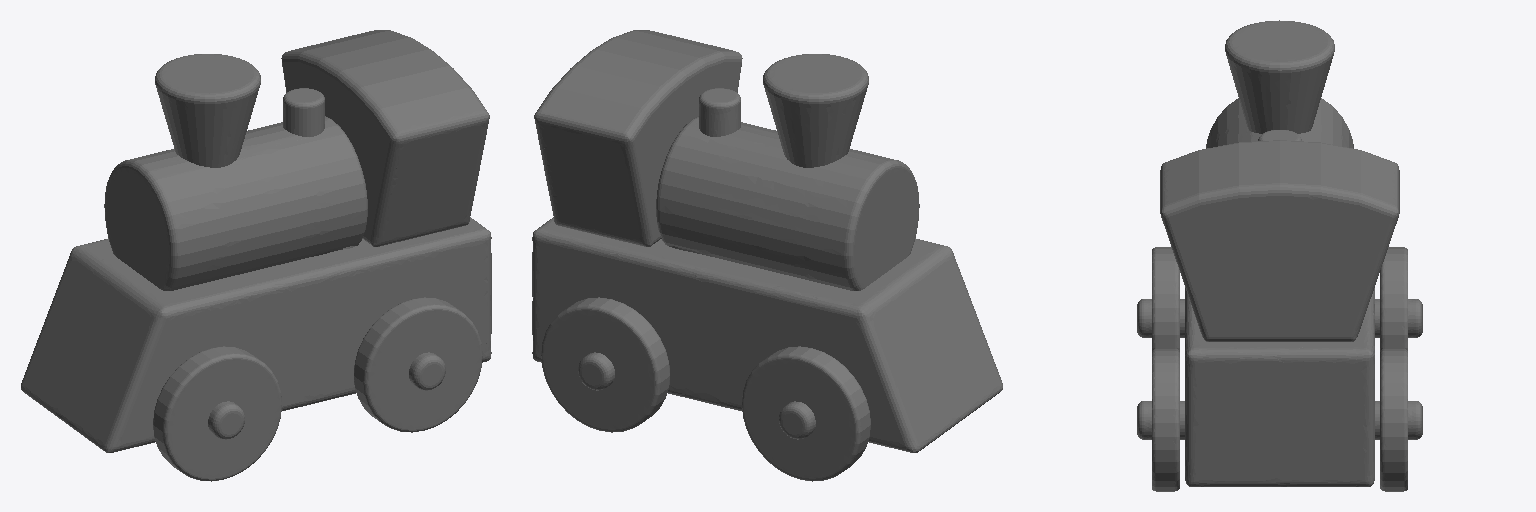
The robot description file, URDF, robot "object":
<?xml version="1.0"?>
<robot name="object">
  <link name="object">
    <visual>
      <origin xyz="0 0 0"/>
      <geometry>
        <mesh
          filename="../../mesh/grab/train.stl" />
      </geometry>
      <material name="mat">
        <color rgba="0.5 0.5 0.5 1"/>
      </material>
    </visual>

    <collision>
      <origin xyz="0 0 0"/>
      <geometry>
        <mesh
          filename="../../mesh/grab/train.stl" />
      </geometry>
    </collision>
  </link>
</robot>

--- What the picture shows (computed from the rendered views, not written in the file) ---
3 views of the same robot in one strip: view 1: azimuth 30°, elevation 25°; view 2: azimuth 150°, elevation 25°; view 3: azimuth 270°, elevation 25° (orthographic).
Robot: object — 1 links, 0 joints (none); root link object; default pose: all joints at 0.
Links seen in each view (by area): view 1: object; view 2: object; view 3: object.
Boxes of the visible links, bbox=[...] form: object: bbox=[21, 30, 491, 481]; object: bbox=[532, 30, 1002, 481]; object: bbox=[1137, 20, 1422, 491].
Bounding box of the posed robot: 0.097 × 0.0598 × 0.0842 m (x, y, z).
Meshes: 1 distinct files referenced, 1 mesh visuals loaded (1 binary STL).